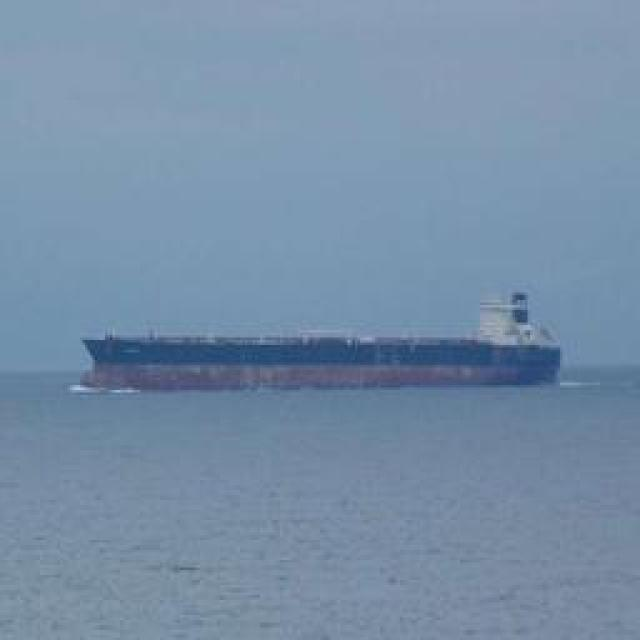CIV_Ship: (82, 312, 566, 388)
